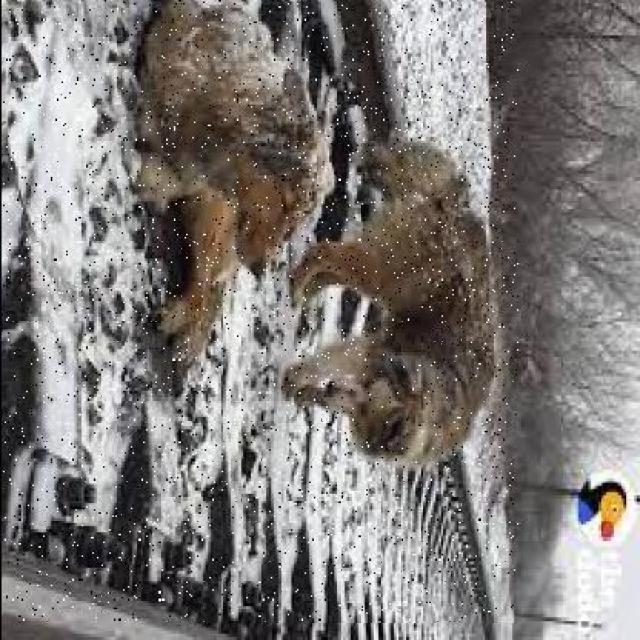danger: (94, 0, 323, 386), (314, 120, 490, 492)
rail: (2, 3, 517, 622)
